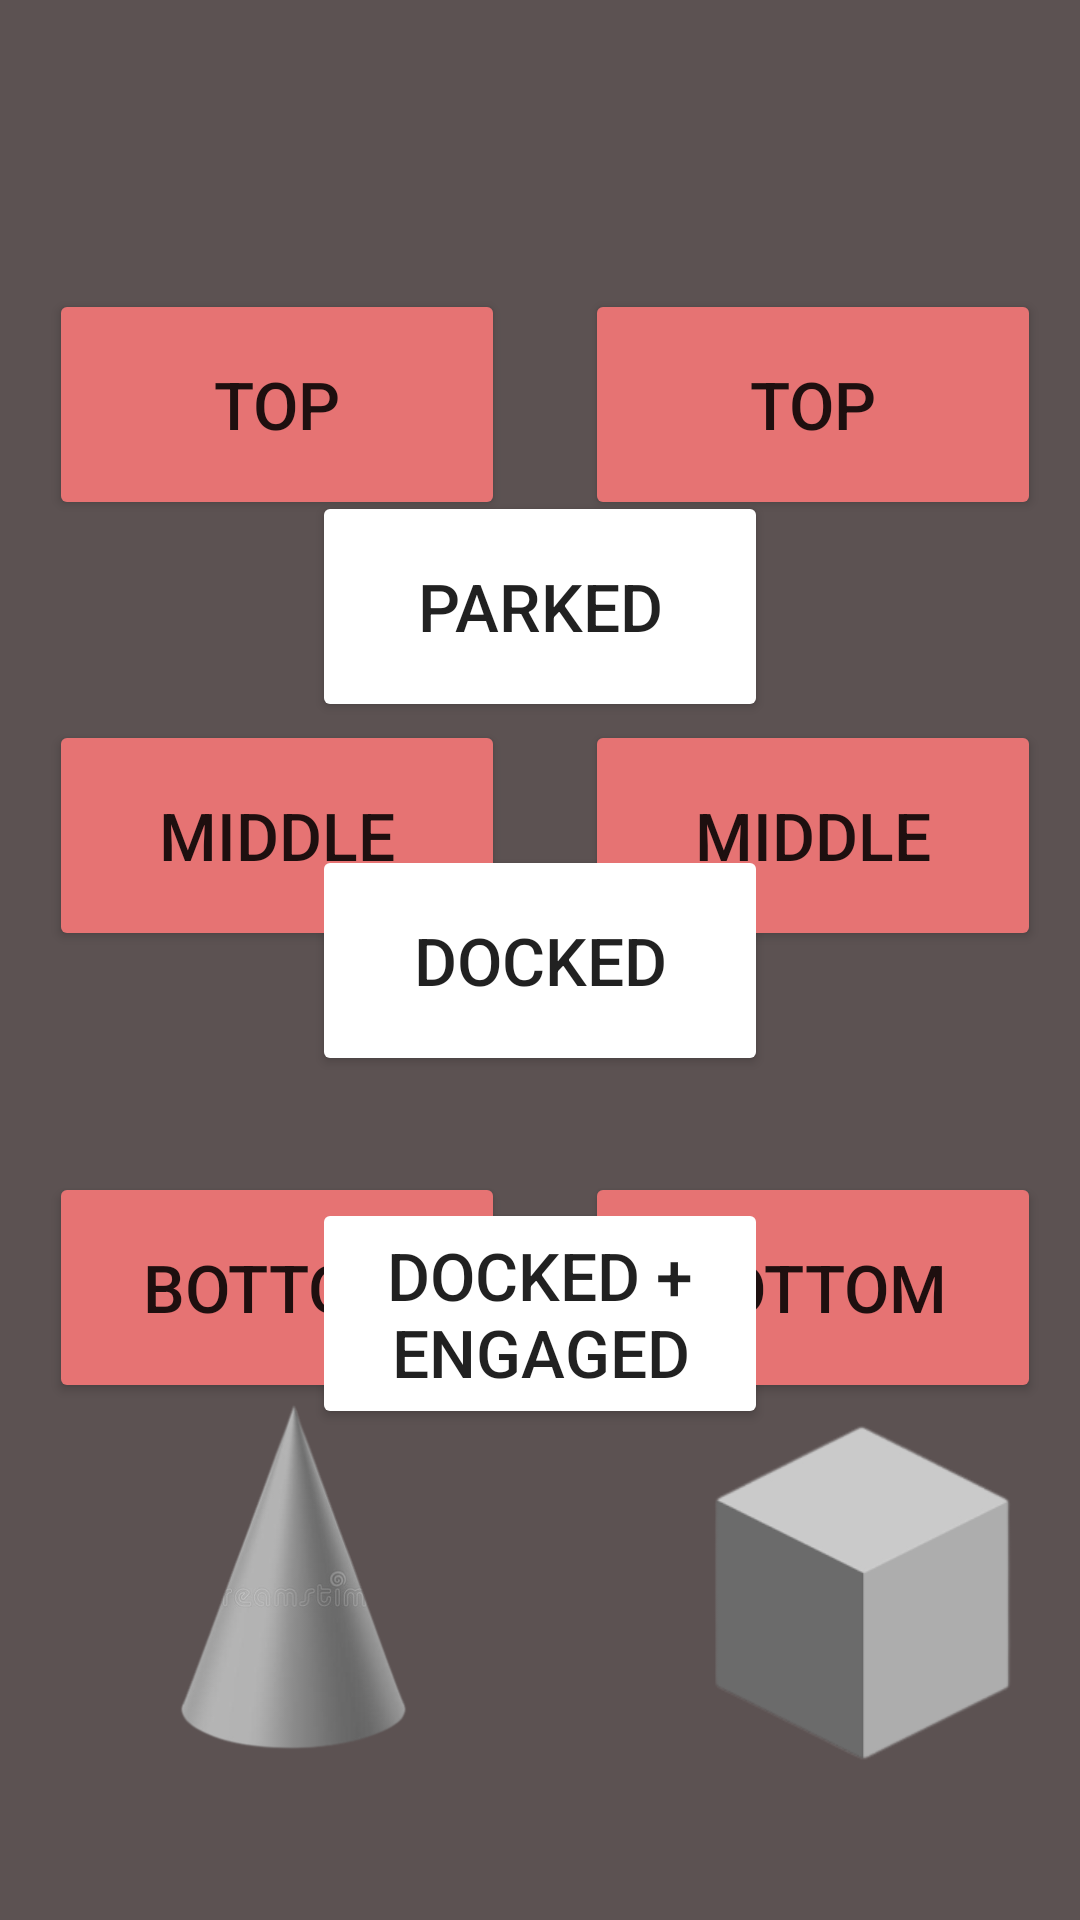

Locate icon controls on the screen. Image size 1080×1920, boxes as bbox(x1, y1, x2, y2).
cube: bbox(717, 1427, 1009, 1758)
